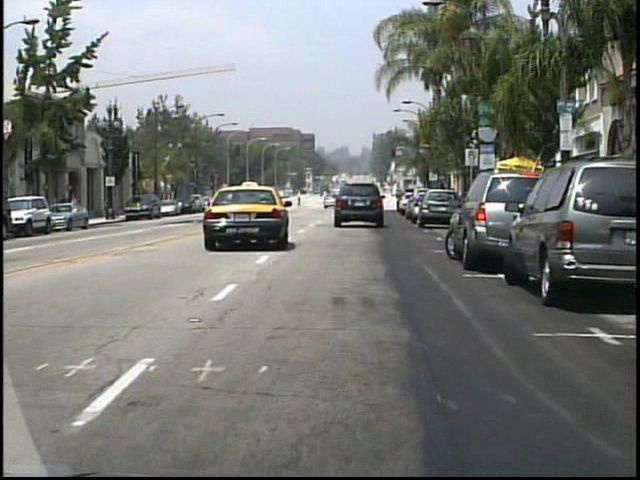person: (59, 190, 73, 223), (71, 192, 82, 222), (296, 190, 304, 208)
